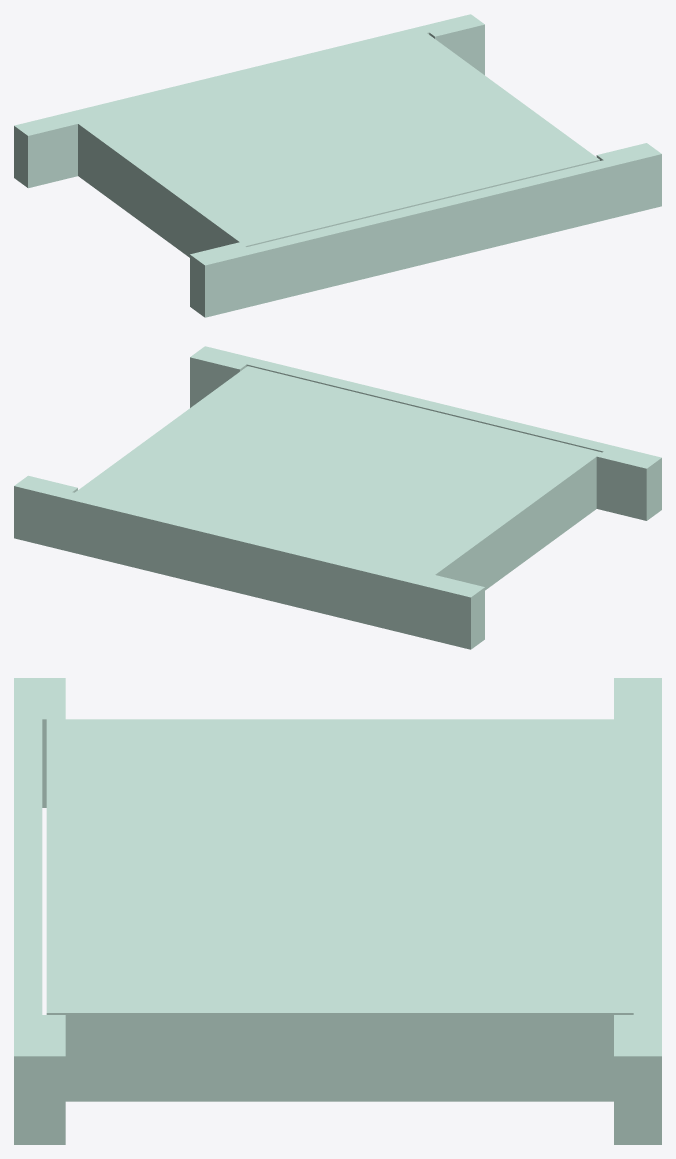
3 views of the same model, one above another, from view 1: azimuth 30°, elevation 25°; view 2: azimuth 150°, elevation 25°; view 3: azimuth 270°, elevation 25° (orthographic). The views are drawn at different scales.
Parts seen in each view (by area): view 1: Renderer Node; view 2: Renderer Node; view 3: Renderer Node.
Part boxes in pixels (left/top/right/bottom): Renderer Node: left=14, top=14, right=661, bottom=317; Renderer Node: left=14, top=346, right=661, bottom=649; Renderer Node: left=14, top=678, right=661, bottom=1144.
Bounding box in the file's own units: 1.5 × 0.1641 × 1.09.
